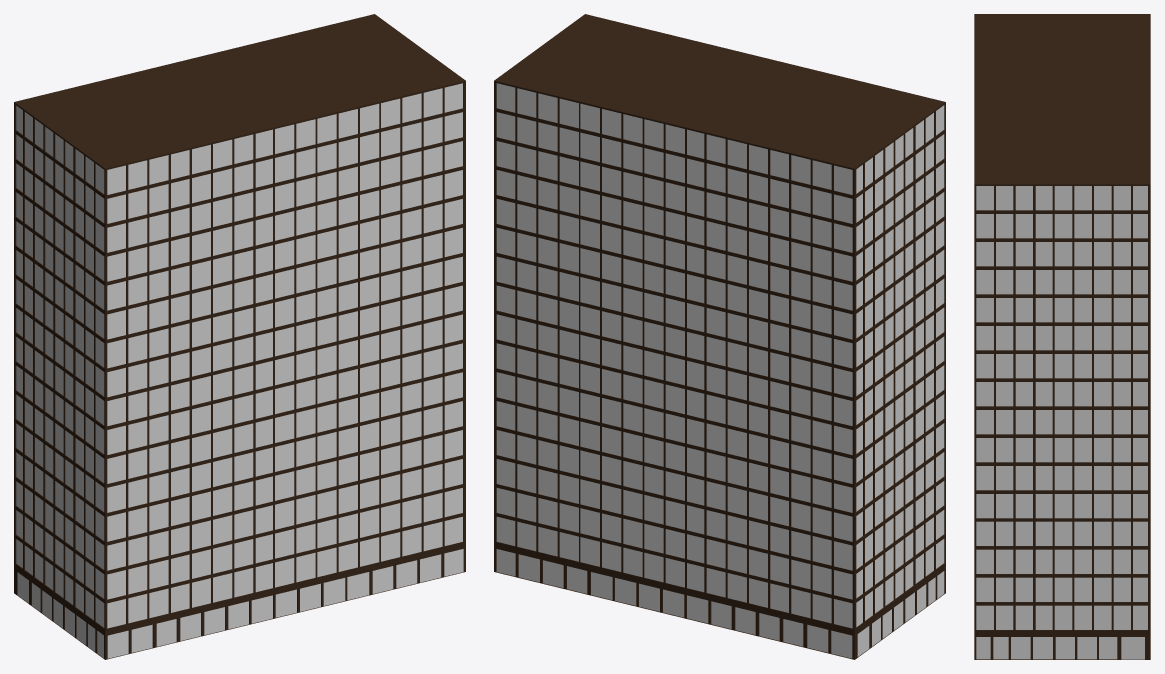
File: building2.fbx
The picture shows the model from 3 angles, left to right: view 1: azimuth 30°, elevation 25°; view 2: azimuth 150°, elevation 25°; view 3: azimuth 270°, elevation 25°; orthographic projection. The views are drawn at different scales.
Parts seen in each view (by area): view 1: Cube.048; view 2: Cube.048; view 3: Cube.048.
Boxes of the visible parts, x1,y1,x2,y2 form: Cube.048: [14, 14, 465, 659]; Cube.048: [494, 14, 945, 659]; Cube.048: [974, 14, 1150, 659].
Bounding box in the file's own units: 8940 × 11631 × 3913.
